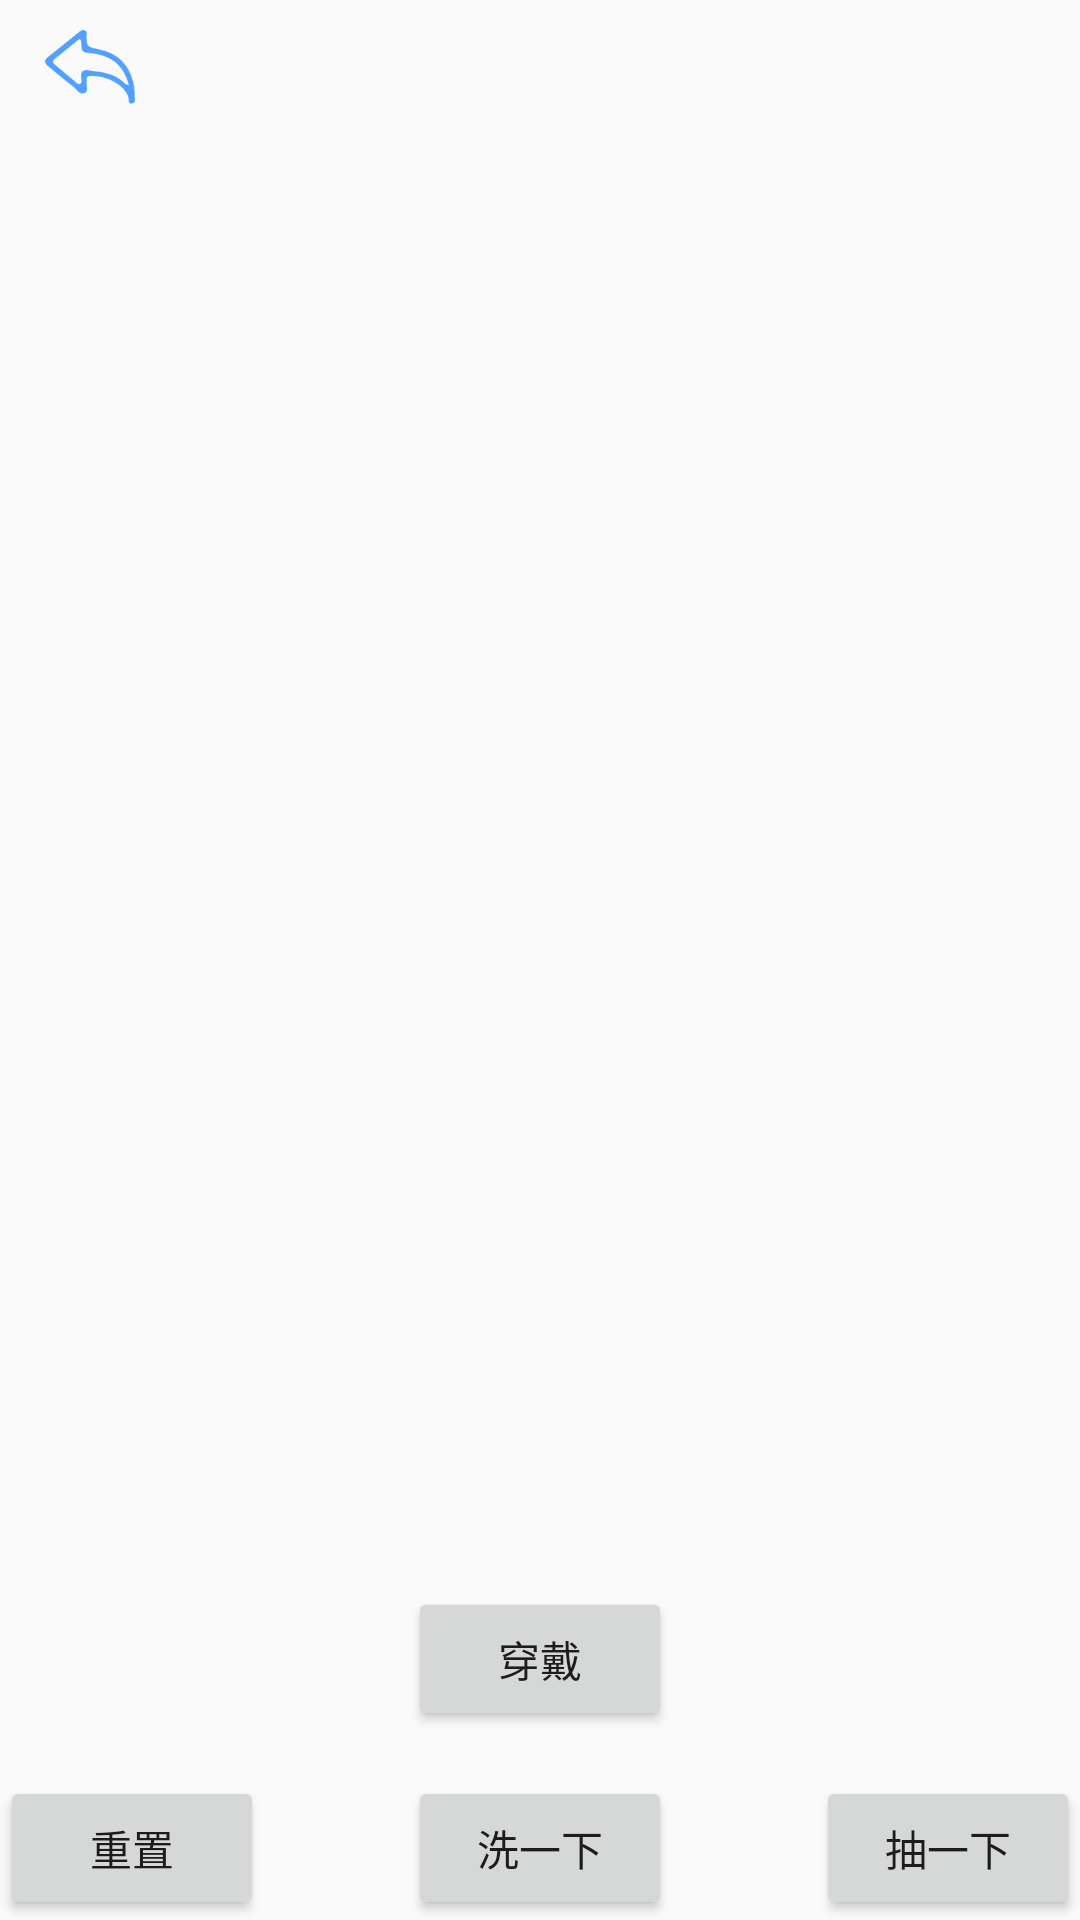

Where to tap for icons on this 1080×1920 app screen, as [x,y]:
back press: [90,67]
